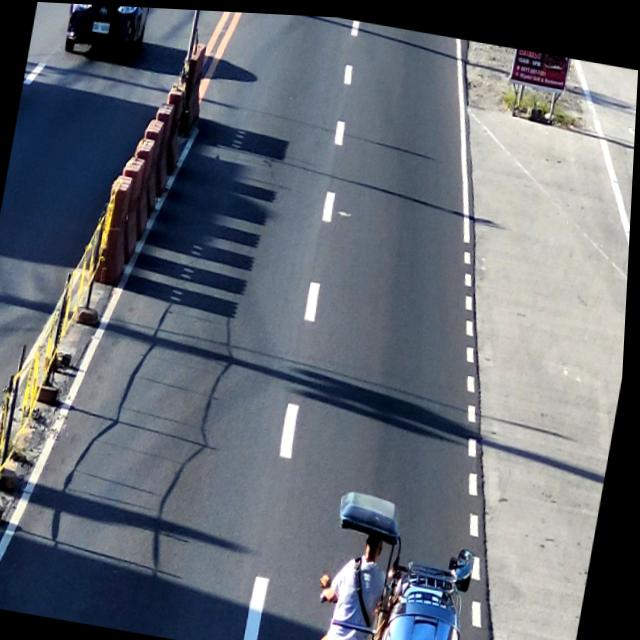Tricycle: (312, 475, 491, 640)
